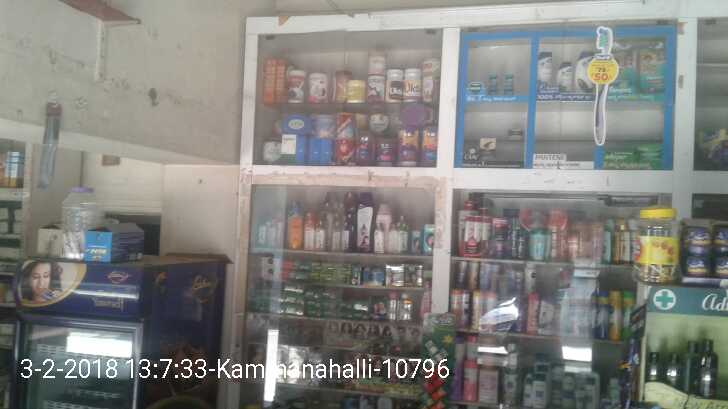beauty: (576, 50, 595, 93), (538, 51, 552, 91), (479, 137, 497, 160), (558, 61, 572, 90), (463, 138, 478, 162), (509, 127, 523, 139)
pharmacy: (636, 41, 669, 92), (635, 142, 663, 160), (603, 150, 635, 164)
